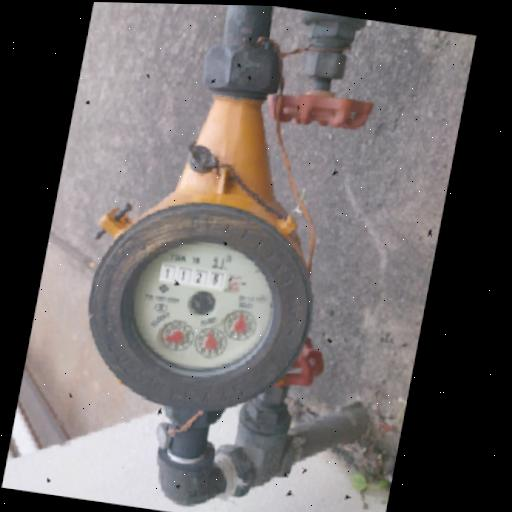1: (177, 267, 192, 283), (162, 265, 177, 280)
2: (193, 270, 208, 285)
4: (227, 275, 241, 291)
8: (210, 272, 225, 287)
border_water_meter_number: (157, 263, 243, 294)
